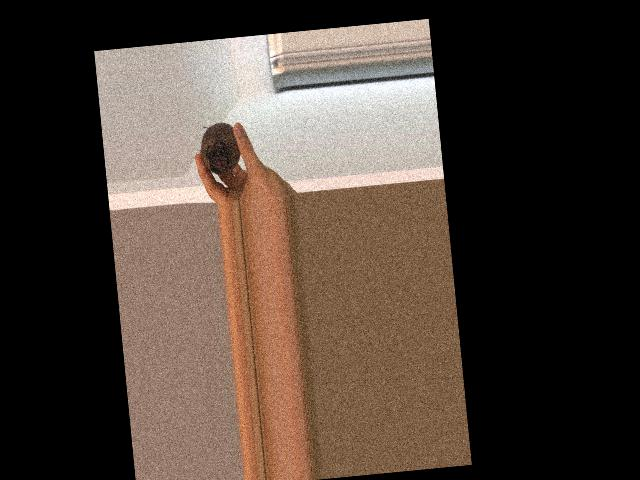beet: (197, 120, 246, 205)
